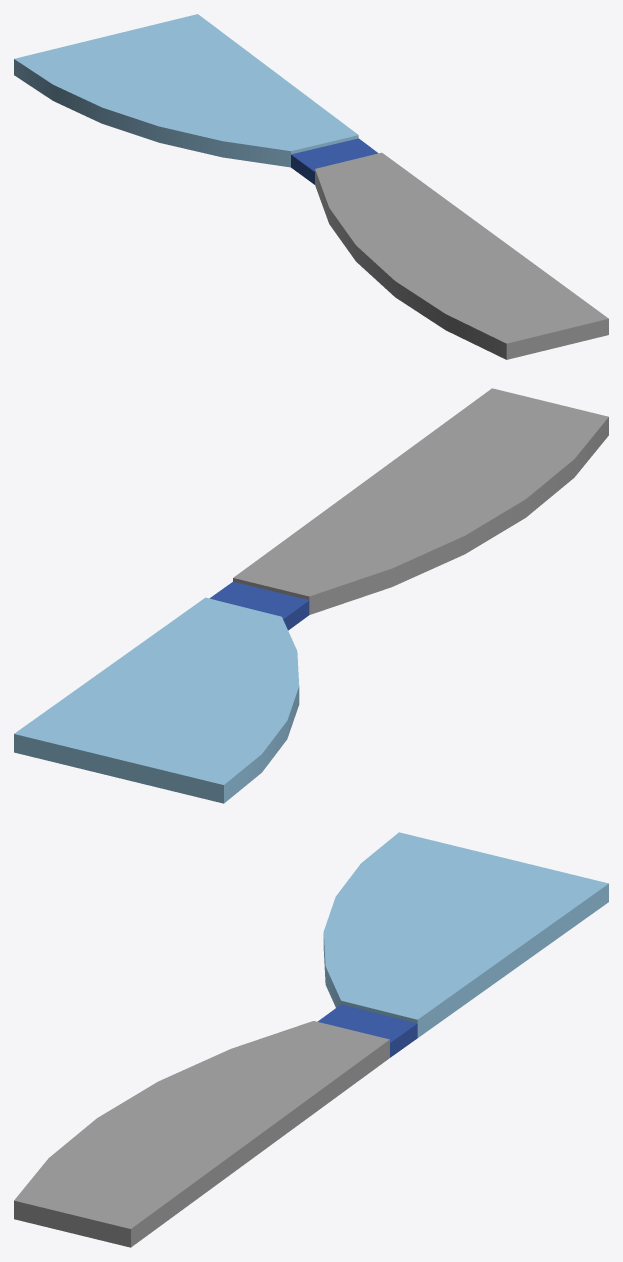
The model's file is Curtain.dae.
3 views of the same model, one above another, from view 1: azimuth 30°, elevation 25°; view 2: azimuth 150°, elevation 25°; view 3: azimuth 330°, elevation 25° (orthographic). The views are drawn at different scales.
Parts seen in each view (by area): view 1: 683c209ee829063e4b1267d7 (×3); view 2: 683c209ee829063e4b1267d7 (×3); view 3: 683c209ee829063e4b1267d7 (×3).
Part boxes in pixels (x1,y1,x2,y2): 683c209ee829063e4b1267d7 (×3): (14,14,608,359); 683c209ee829063e4b1267d7 (×3): (14,388,608,803); 683c209ee829063e4b1267d7 (×3): (14,832,608,1247).
Bounding box in the file's own units: 0.03 × 0.1173 × 0.00254.
